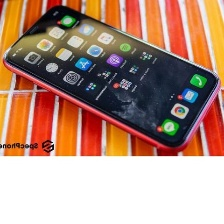phone: (0, 0, 221, 154)
